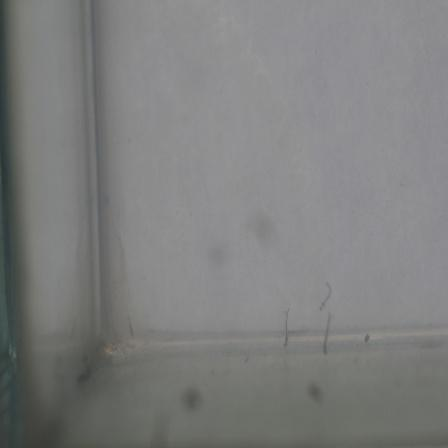Jentik-Nyamuk: (318, 276, 335, 314), (281, 304, 293, 351)
